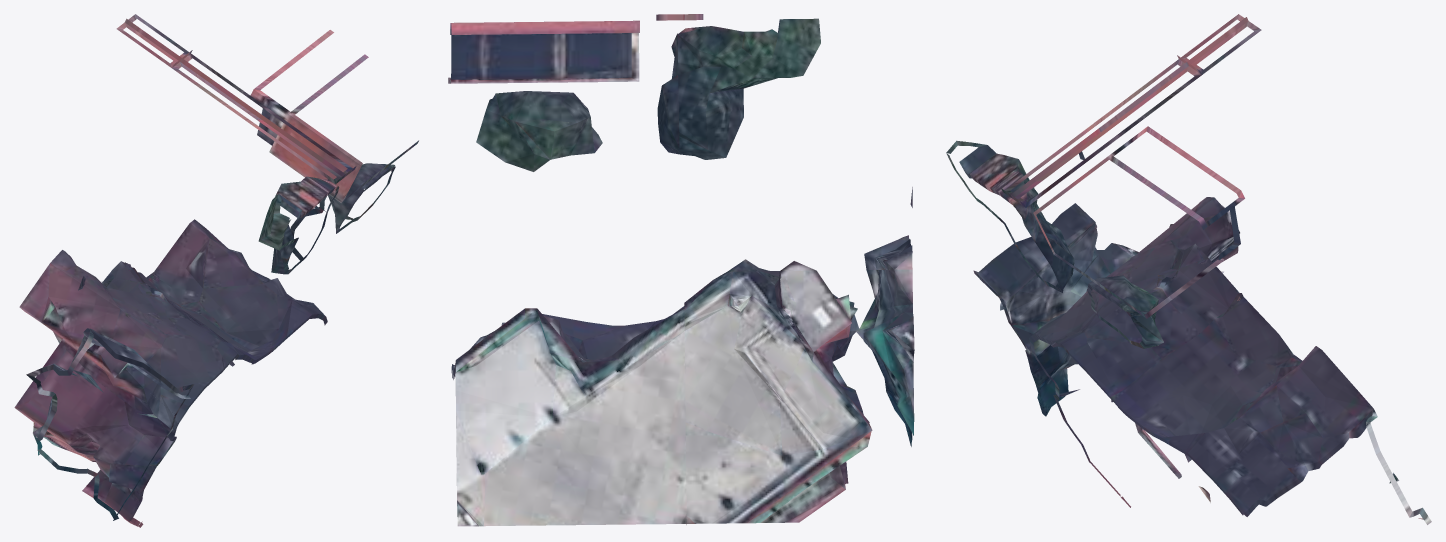
3 views of the same model, side by side, from view 1: azimuth 30°, elevation 25°; view 2: azimuth 150°, elevation 25°; view 3: azimuth 270°, elevation 25° (orthographic). The views are drawn at different scales.
Size of the model in its own units: 40.49 by 45.22 by 38.86.
2 materials, 2 textured.
